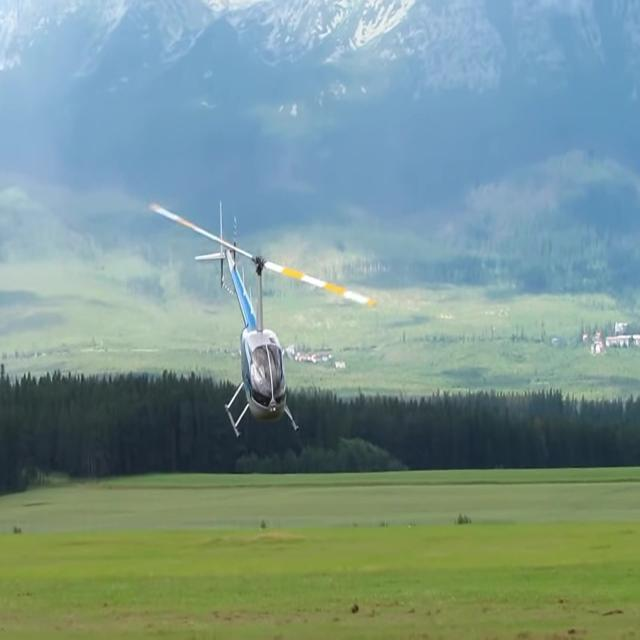CIV_HELO: (194, 201, 300, 436)
